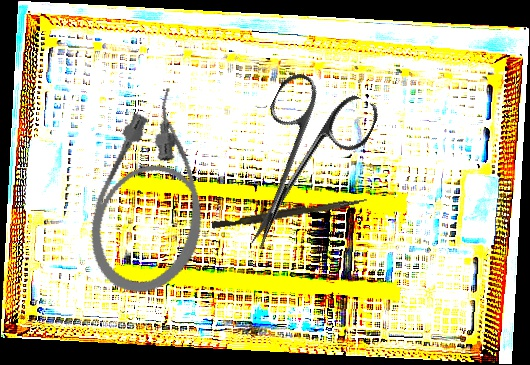Cannula: (74, 77, 237, 307)
Iris Scissors: (212, 64, 383, 270)
Pusher: (211, 192, 368, 233)
